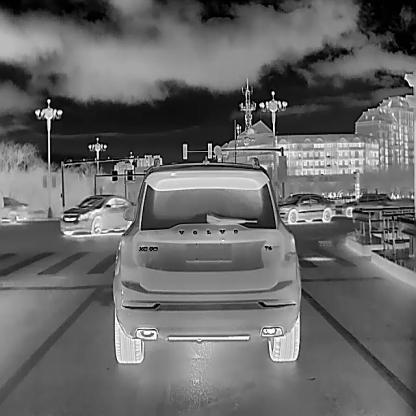car: (112, 157, 300, 363), (59, 193, 137, 235), (276, 193, 334, 222), (341, 192, 397, 215), (0, 195, 29, 223)
